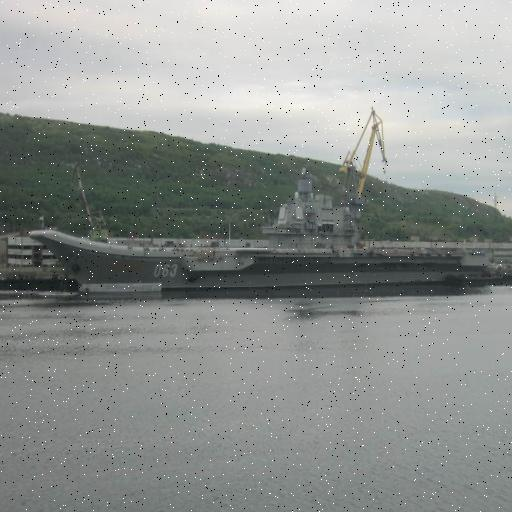Portanaves: (28, 166, 508, 307)
